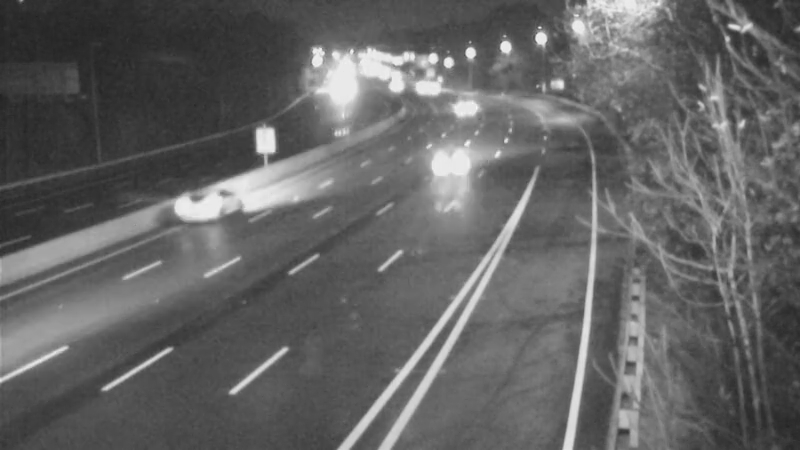vehicle: (412, 115, 492, 195), (156, 163, 236, 243), (436, 76, 486, 126)
